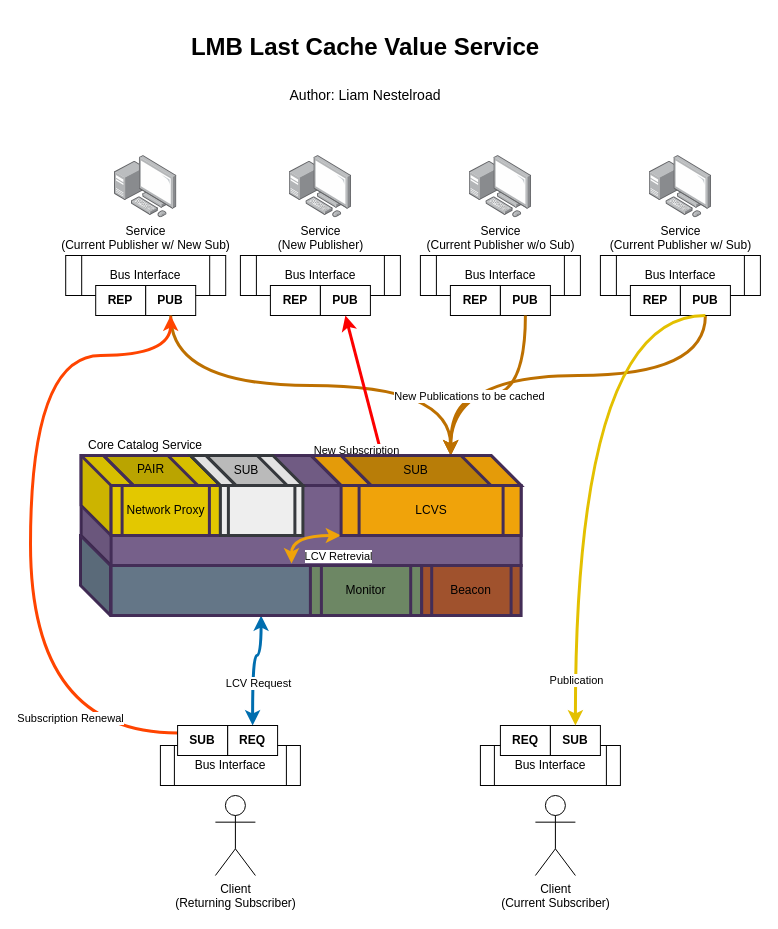
This 778x929 diagram has some shape labels left out. The centre of each missing label's shape, as x and y in pixels:
"Core Catalog" goes at (210,590).
"DLAS" goes at (261,510).
